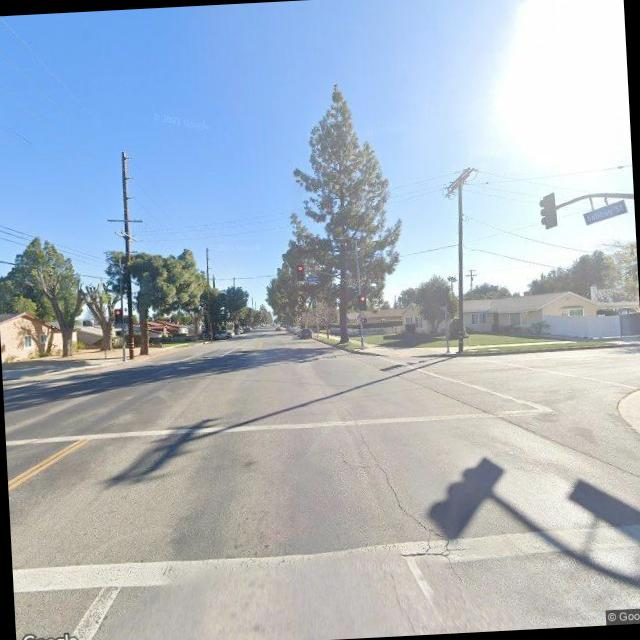pothole: (344, 402, 442, 564)
